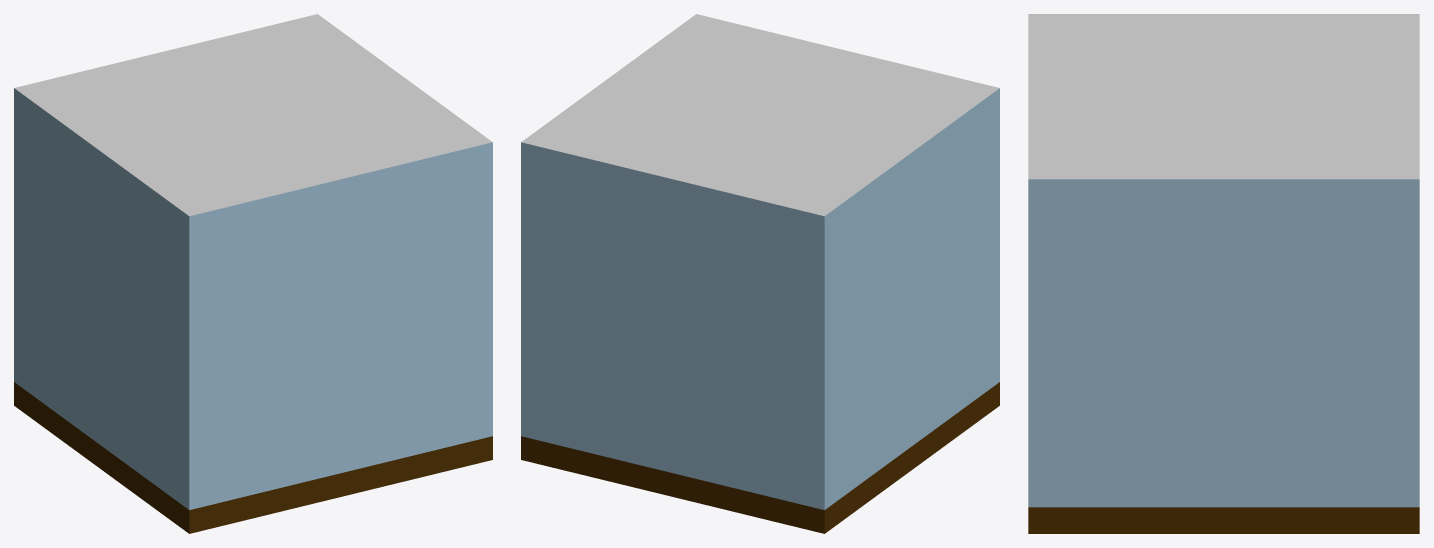
The model's file is room.fbx.
The picture shows the model from 3 angles, left to right: view 1: azimuth 30°, elevation 25°; view 2: azimuth 150°, elevation 25°; view 3: azimuth 270°, elevation 25°; orthographic projection. The views are drawn at different scales.
Parts seen in each view (by area): view 1: pCube4; view 2: pCube4; view 3: pCube4.
Boxes of the visible parts, left/top/right/bottom form: pCube4: left=14, top=14, right=492, bottom=533; pCube4: left=521, top=14, right=999, bottom=533; pCube4: left=1028, top=14, right=1419, bottom=533.
Size of the model in its own units: 700 by 700 by 700.
